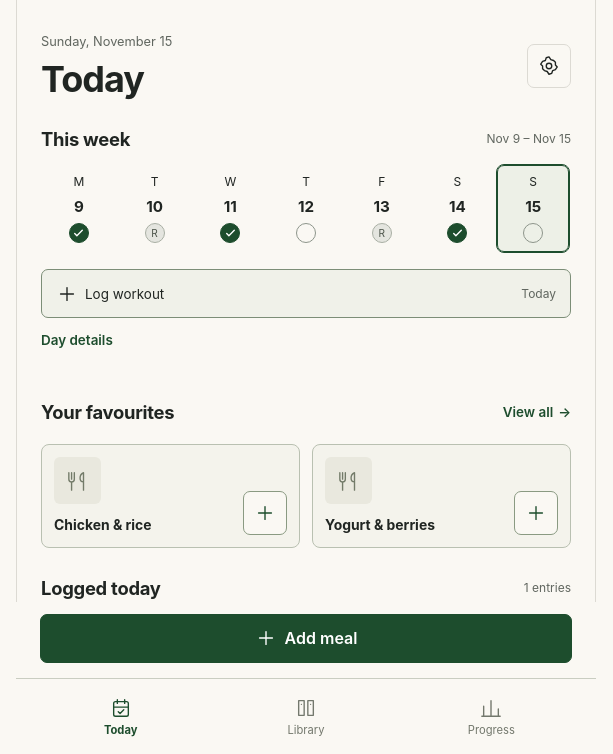
actual screen interactions with persisted IndexedDB › progress calendar agrees with baseline and month navigation clears selected day
The image size is (613, 754).
expect the heading "Today" is shown: met, box [41,57,144,101]
Click the button "Progress" at (491, 717), box [399,688,584,747]
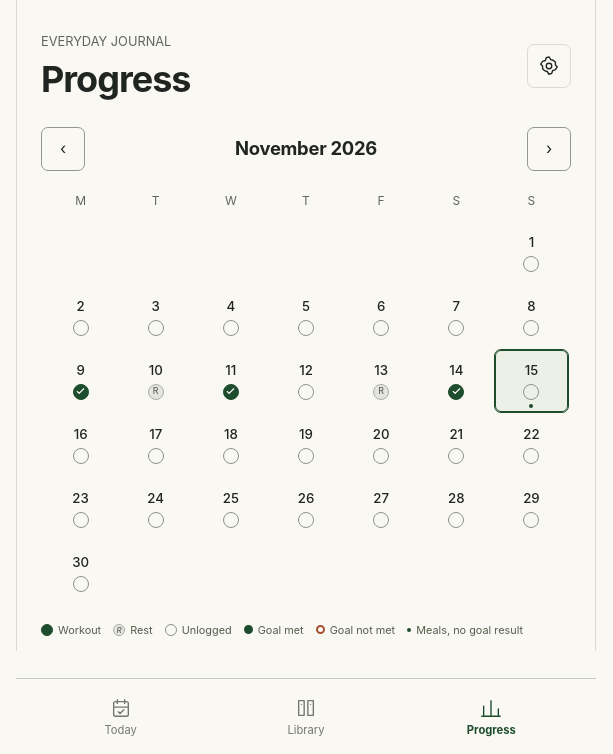
expect the heading "Progress" is shown: met, box [41,59,190,101]
expect the button named "November 15, 2026, unlogged, has meals" is shown: met, box [495,350,568,412]
Click the button named "Previous month" at (63, 149), box [41,127,85,171]
(page scrolled)
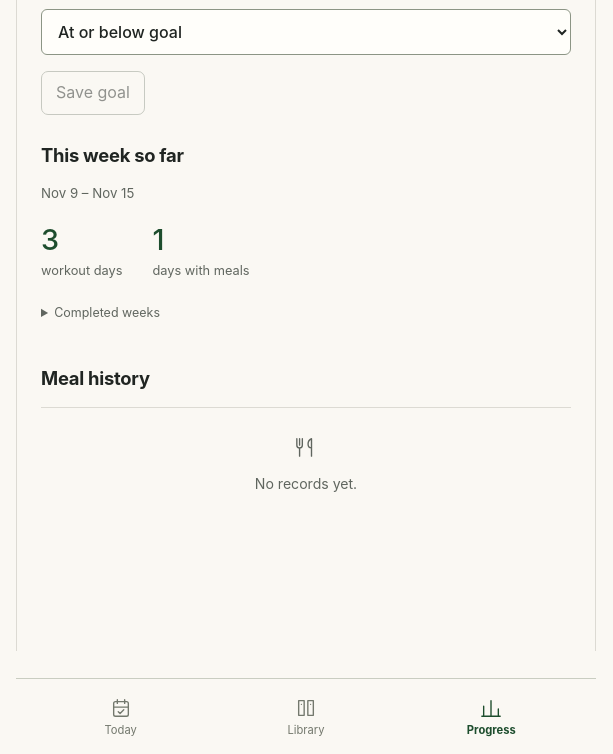
expect the heading "Meal history" is shown: met, box [41,367,150,389]
expect the text "No records yet." is shown: met, box [255,475,357,492]
